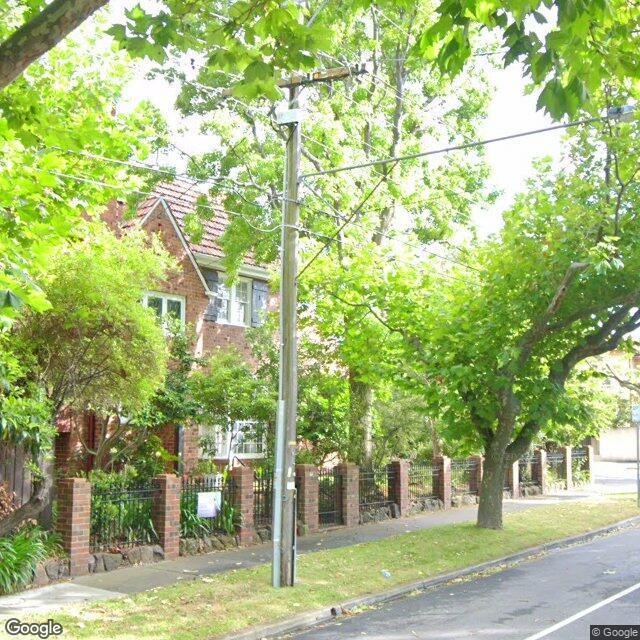crossarm: (220, 66, 357, 100)
streetlight: (299, 104, 640, 181)
timber-pole: (270, 71, 302, 587)
